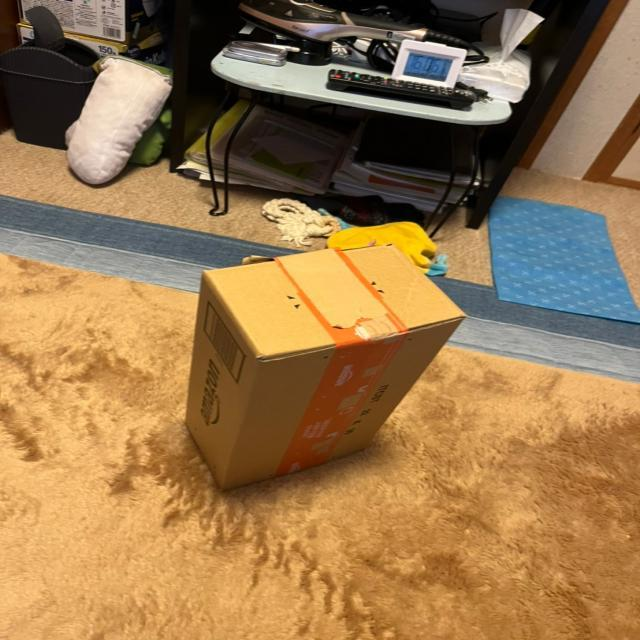-: (183, 238, 477, 497)
